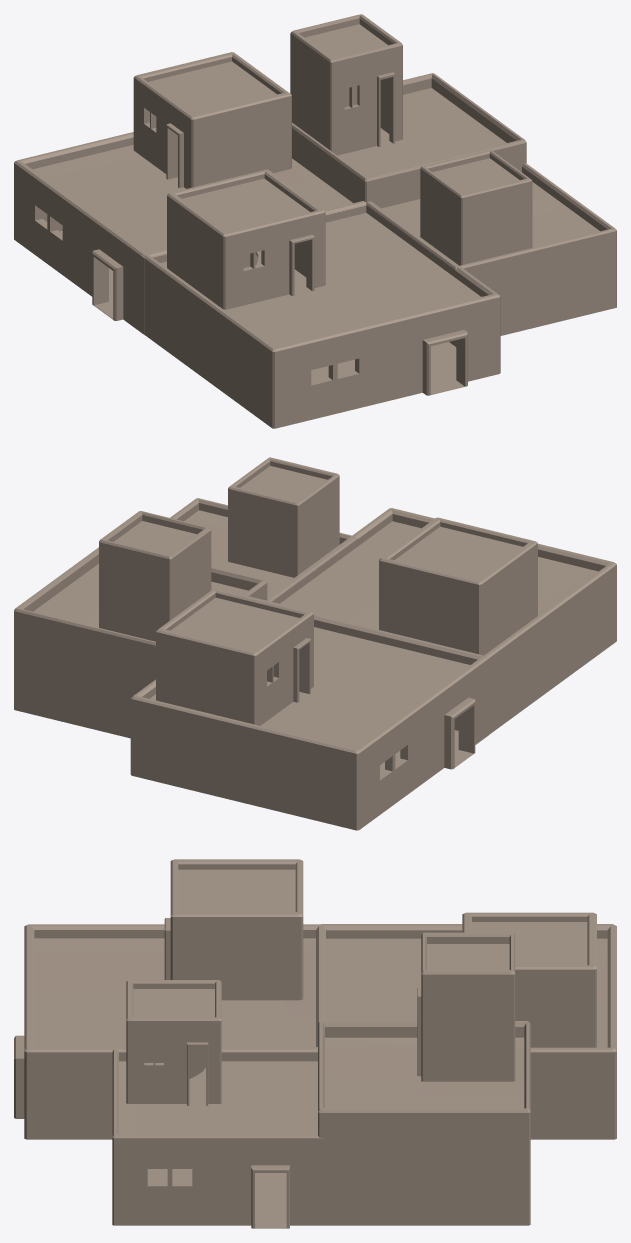
Rendered from hovel_4.fbx.
The picture shows the model from 3 angles, top to bottom: view 1: azimuth 30°, elevation 25°; view 2: azimuth 150°, elevation 25°; view 3: azimuth 270°, elevation 25°; orthographic projection. The views are drawn at different scales.
Parts seen in each view (by area): view 1: hovel_interior12; view 2: hovel_interior12; view 3: hovel_interior12.
Boxes of the visible parts, <box> form: hovel_interior12: <box>14,14,616,428</box>; hovel_interior12: <box>14,457,616,830</box>; hovel_interior12: <box>14,859,616,1228</box>.
Bounding box in the file's own units: 41.6 × 18.44 × 48.07.
